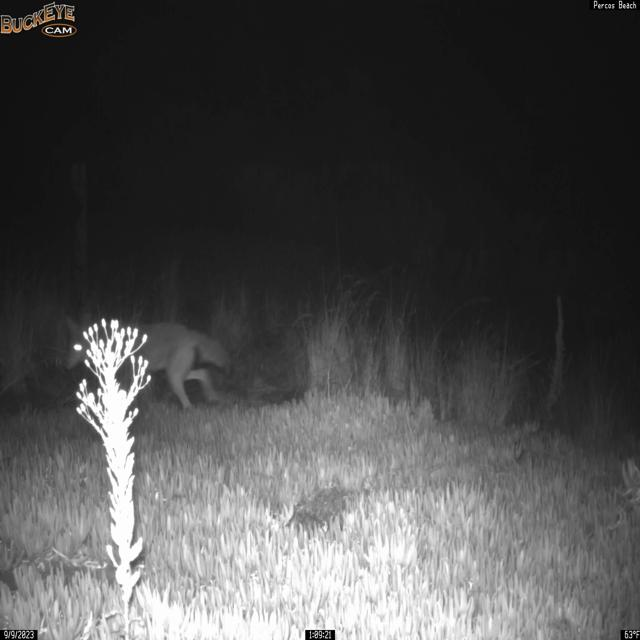coyote: (64, 313, 232, 412)
